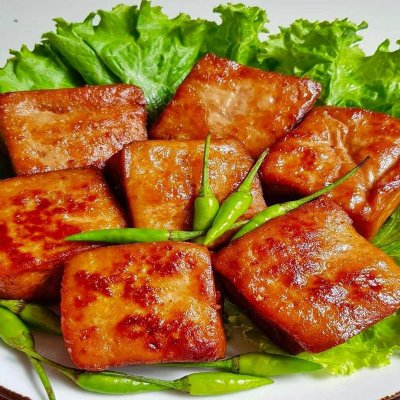Tahu: (64, 228, 226, 374), (197, 231, 400, 333), (1, 68, 174, 180), (1, 156, 123, 293), (180, 50, 324, 164), (132, 119, 241, 250), (283, 106, 400, 197)
